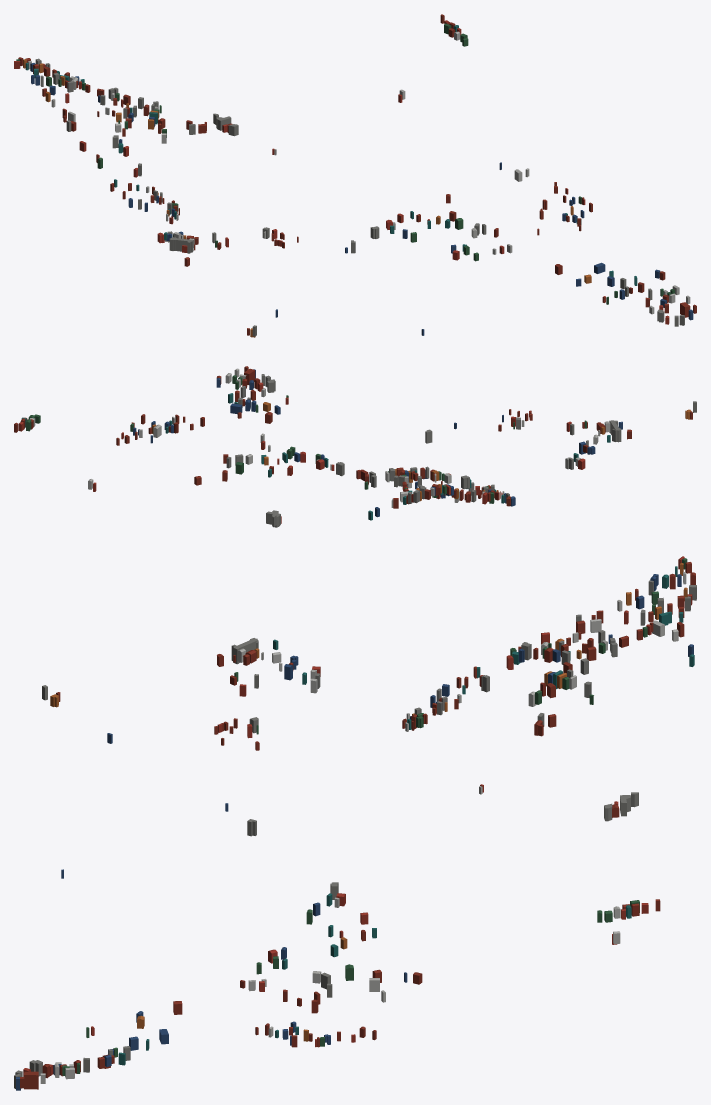
Rendered from near-15-27364-14870.a737d882.glb.
The picture shows the model from 3 angles, top to bottom: view 1: azimuth 30°, elevation 25°; view 2: azimuth 150°, elevation 25°; view 3: azimuth 270°, elevation 25°; orthographic projection. The views are drawn at different scales.
Bounding box in the file's own units: 1186 × 480 × 1174.
